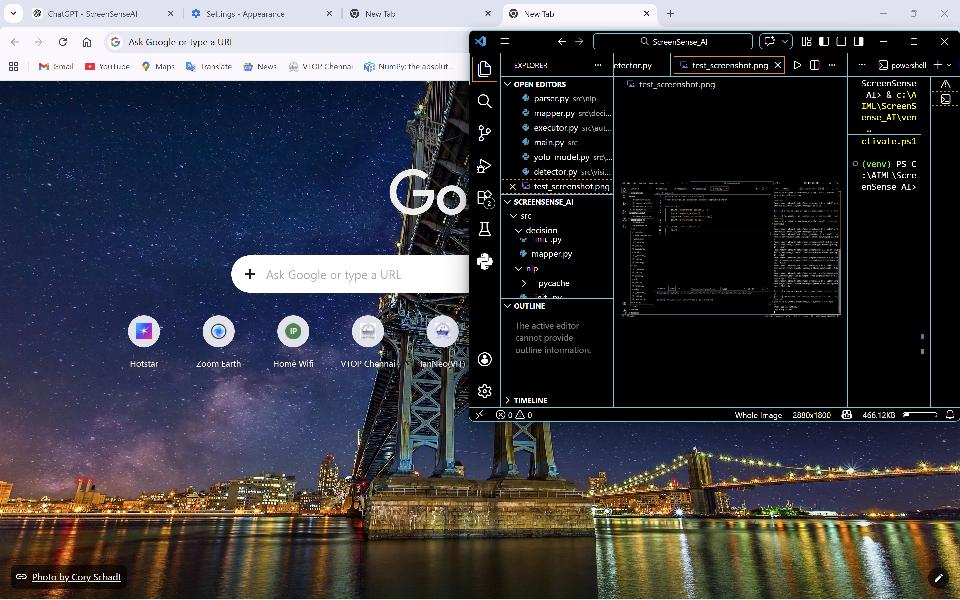close_button: (935, 3, 955, 24), (936, 34, 955, 50)
maximize_button: (905, 3, 925, 23), (906, 33, 925, 51)
minimize_button: (873, 2, 896, 24), (873, 34, 896, 50)
